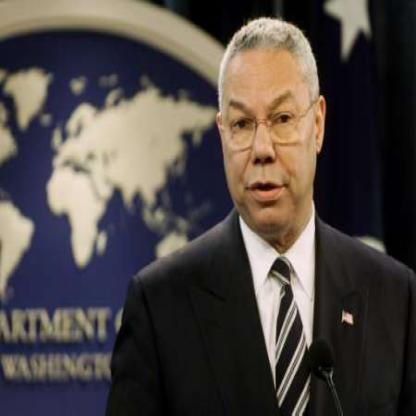face: (219, 20, 318, 235)
